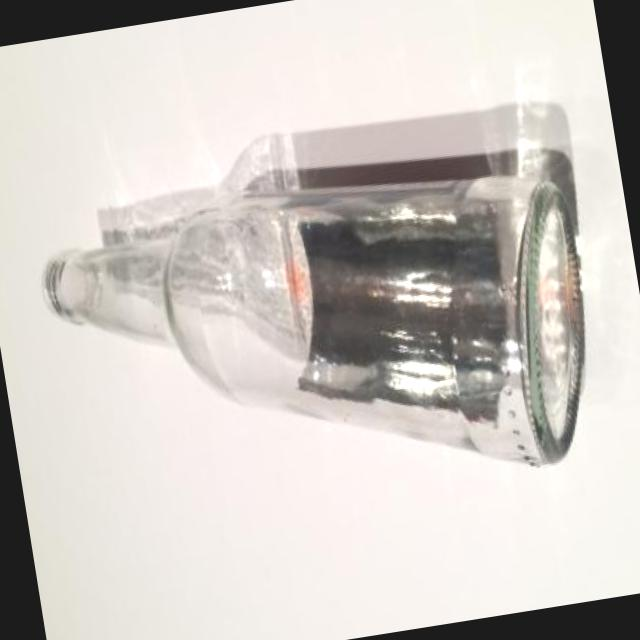chai_thuy_tinh: (45, 178, 581, 469)
